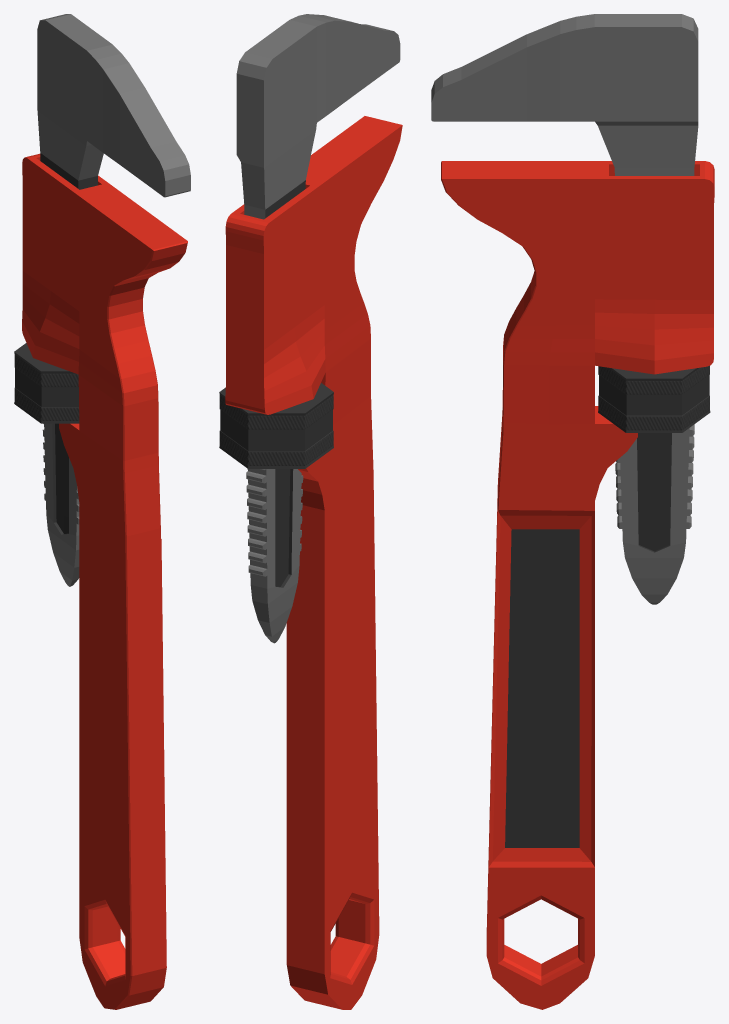
Rendered from Wrench.fbx.
3 renders of one model, left to right at view 1: azimuth 30°, elevation 25°; view 2: azimuth 150°, elevation 25°; view 3: azimuth 270°, elevation 25°, orthographic. The views are drawn at different scales.
Parts seen in each view (by area): view 1: Handle, Top, grip; view 2: Handle, Top, grip; view 3: Handle, Top, grip.
Part boxes in pixels (x1,y1,x2,y2): Handle: (22,153,187,1009); Top: (37,14,190,586); grip: (14,343,79,423); Handle: (225,116,402,1009); Top: (236,14,400,643); grip: (219,383,333,468); Handle: (441,161,714,1009); Top: (431,14,698,604); grip: (598,365,710,432).
Size of the model in its own units: 4.54 by 50.43 by 13.2.
